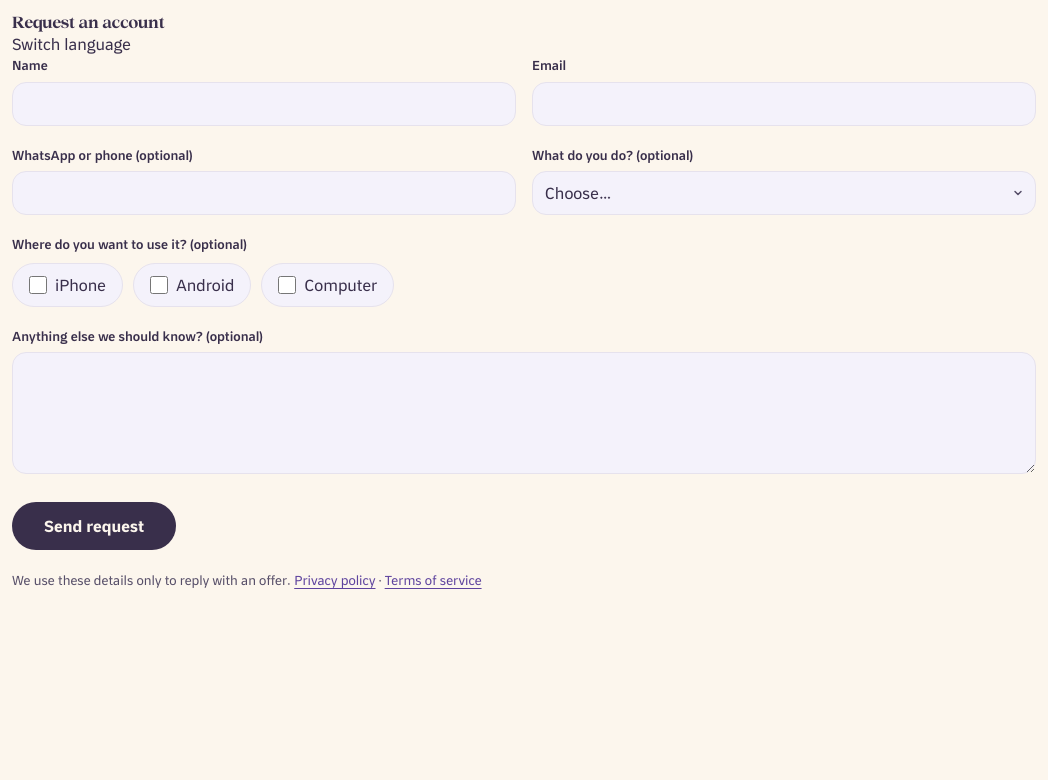
HostedRequestForm validation › clears a field’s error as soon as it is edited
The image size is (1048, 780).
Click the button "Send request" at [94, 526], box [12,502,176,550]
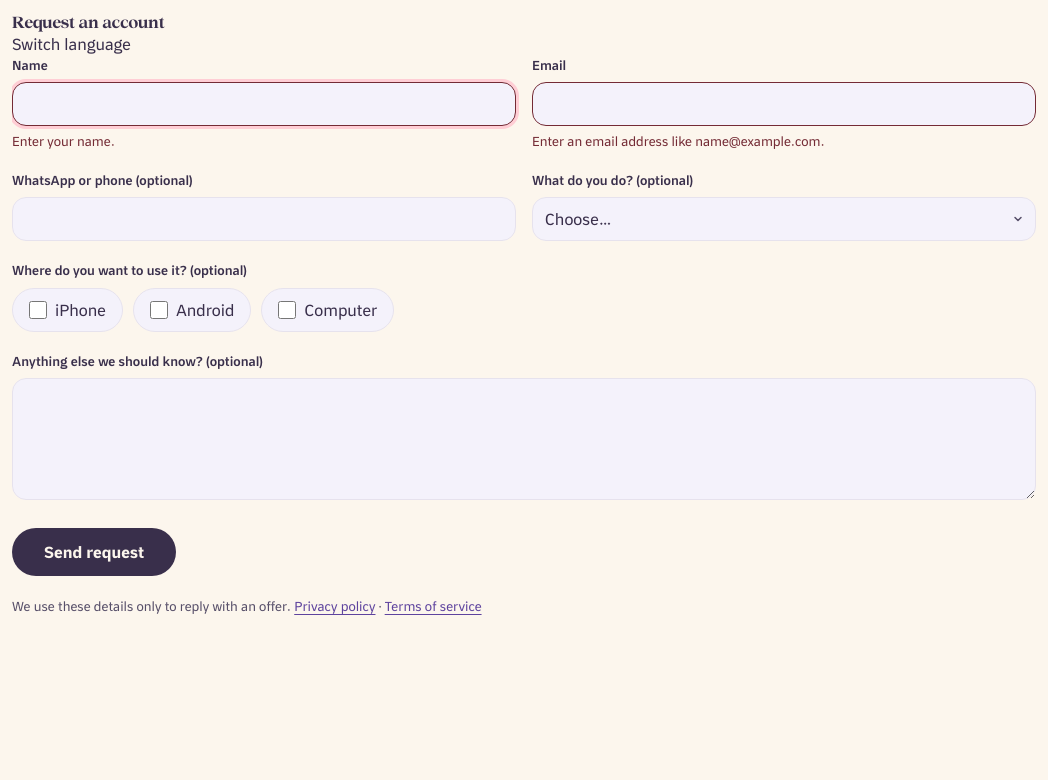
Type "L" into the field labelled "Name" at [264, 104], box [12,82,516,126]
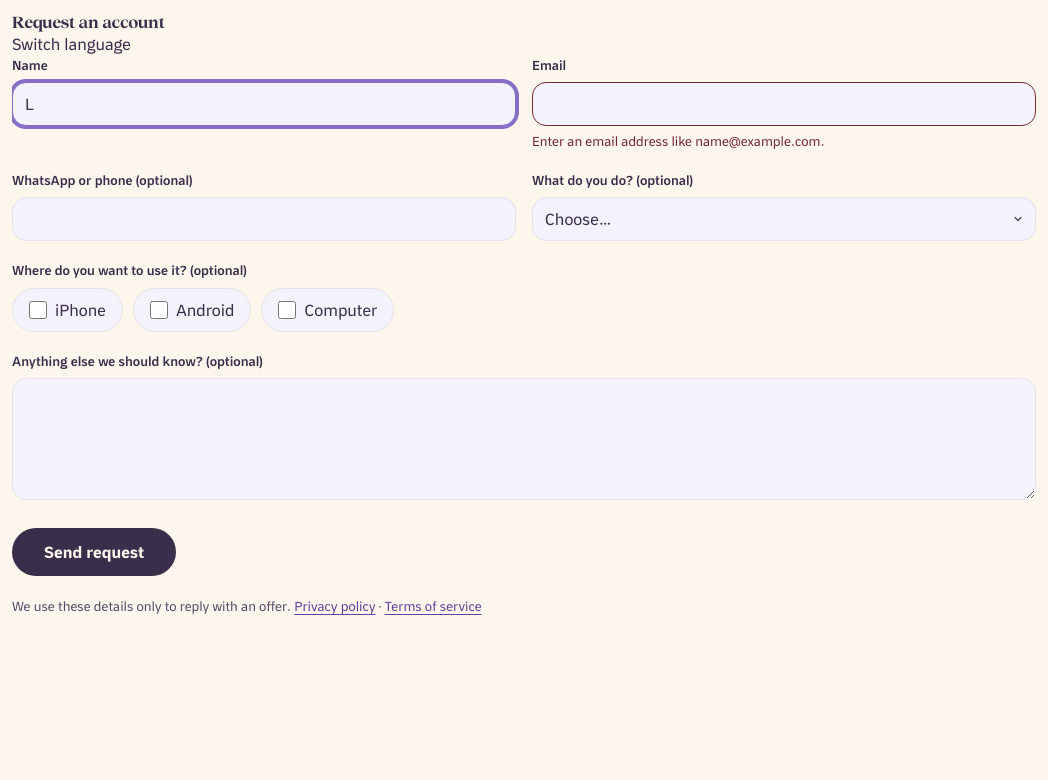
Result: the text "Enter your name." is gone
